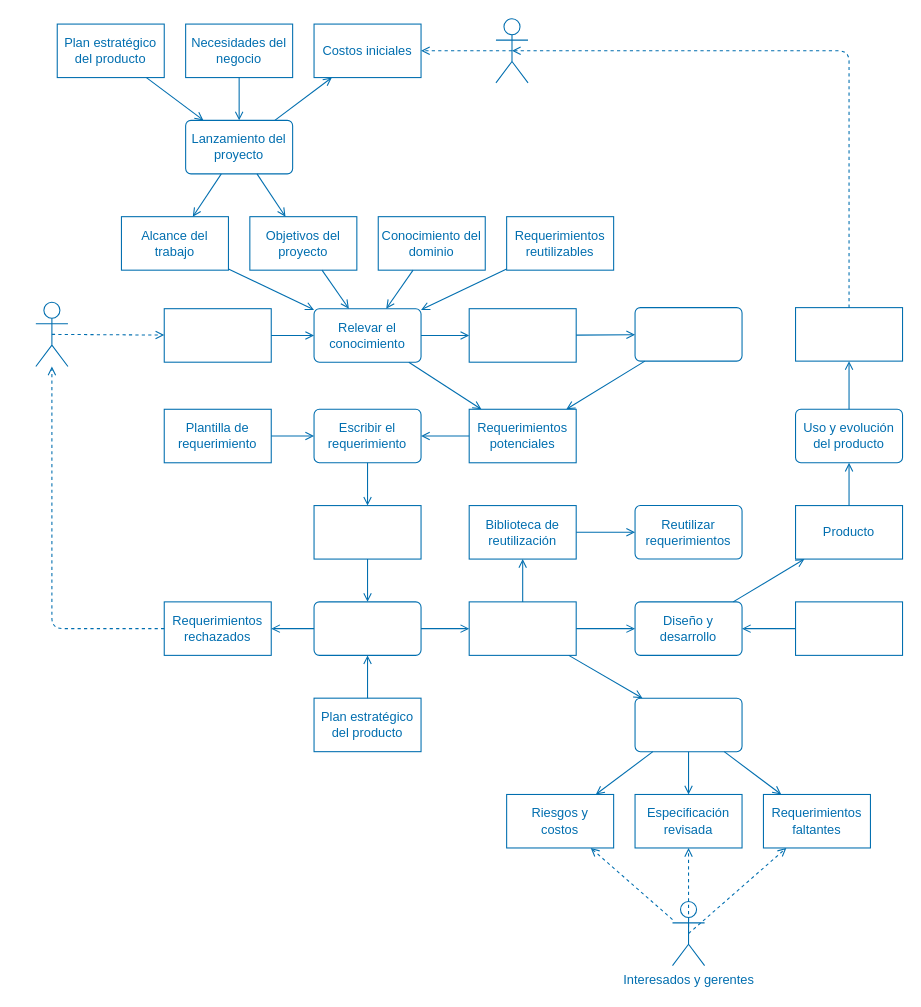
This 921x1007 diagram has some shape labels left out. The shapes that lost their labels are listed below. From the top down, each one's centre as x and y in pixels, then its label:
At pixel 511 50: "Dueño".
At pixel 51 333: "Interesados".
At pixel 217 335: "Deseos y necesidades".
At pixel 522 335: "Requerimientos para experimentar".
At pixel 688 334: "Prototipar el trabajo".
At pixel 848 334: "Nuevas necesidades".
At pixel 367 532: "Requerimientos formalizados".
At pixel 367 628: "Portal de calidad".
At pixel 522 628: "Requerimientos aceptados".
At pixel 848 628: "Arquitectura".
At pixel 688 724: "Revisar los requerimientos".
